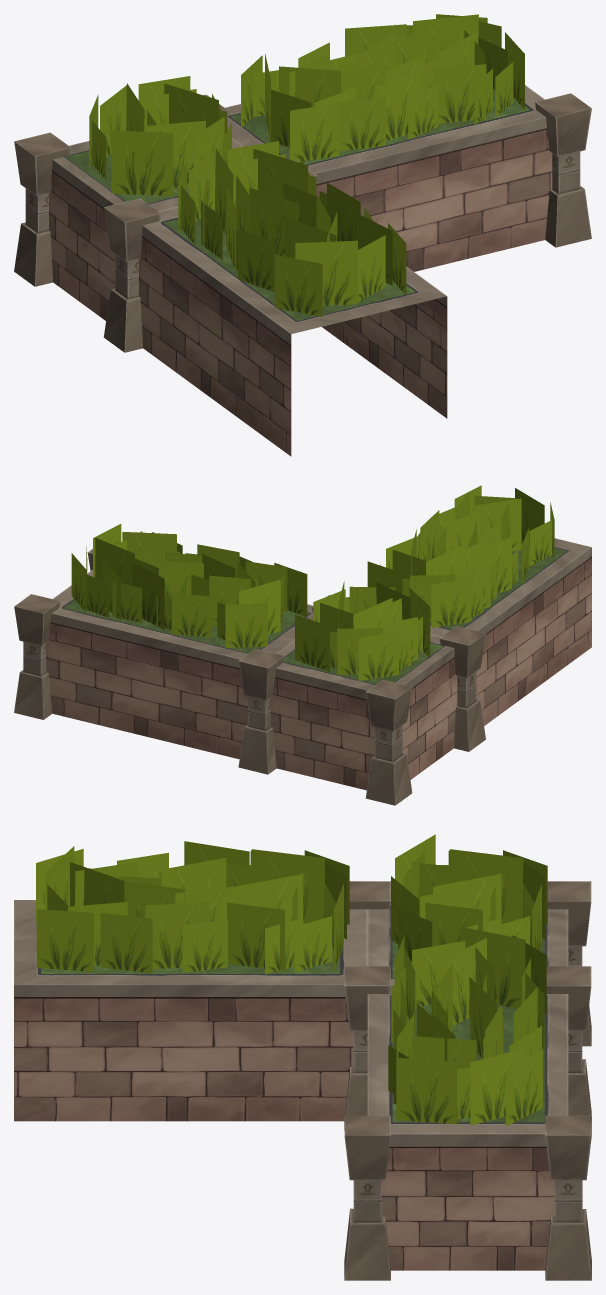
The model's file is wallGrass_corner_modular1.fbx.
3 views of the same model, one above another, from view 1: azimuth 30°, elevation 25°; view 2: azimuth 150°, elevation 25°; view 3: azimuth 270°, elevation 25° (orthographic). The views are drawn at different scales.
Parts seen in each view (by area): view 1: polySurface2488; view 2: polySurface2488; view 3: polySurface2488.
Boxes of the visible parts, box(x1,y1,x2,y2) form: polySurface2488: box(14, 14, 591, 456); polySurface2488: box(14, 485, 591, 805); polySurface2488: box(14, 834, 591, 1280).
Size of the model in its own units: 11.53 by 4.53 by 11.08.
